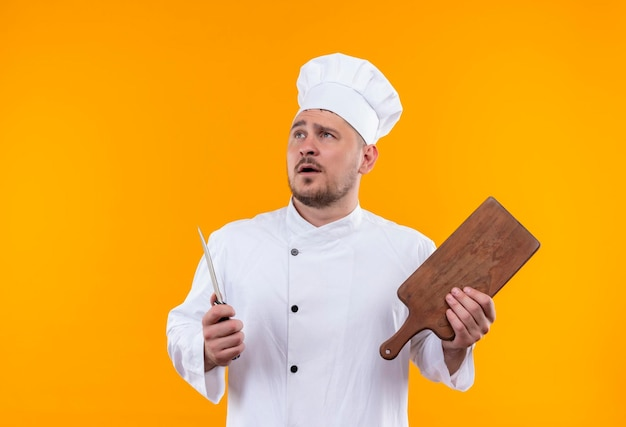knife: (194, 227, 227, 306)
